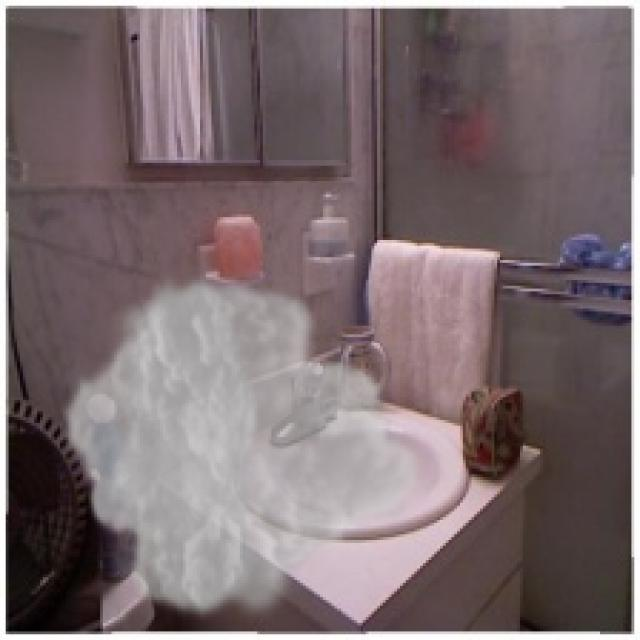smoke: (60, 268, 429, 626)
